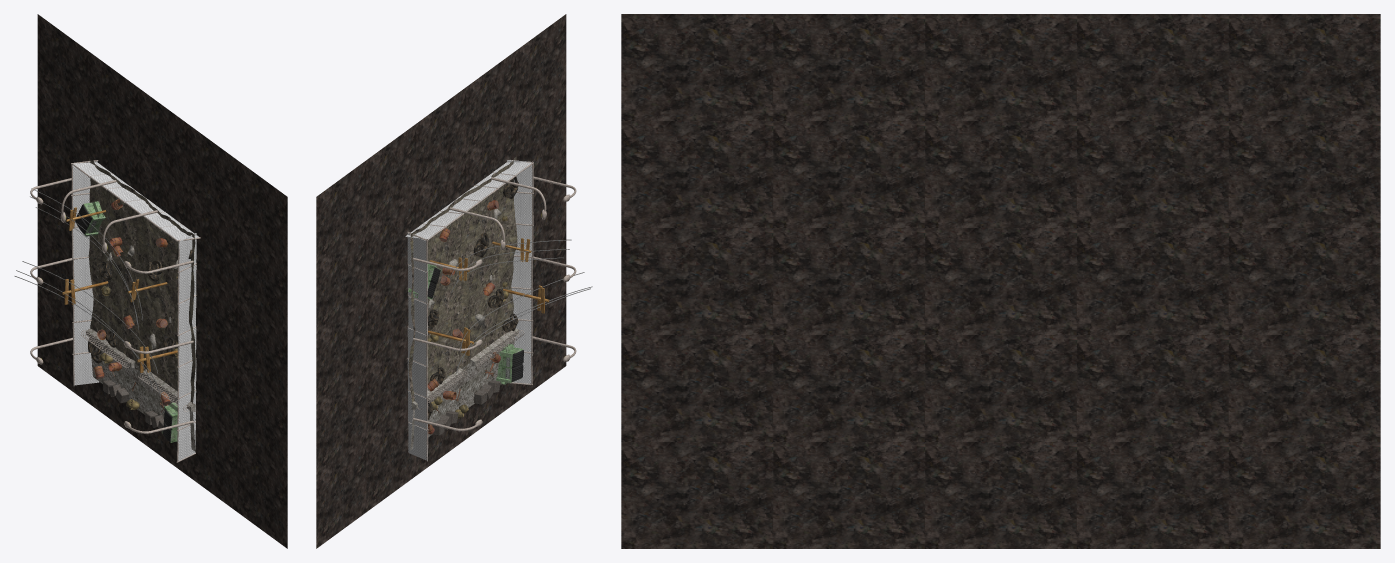
The model's file is niveau_de_jeu.FBX.
The picture shows the model from 3 angles, left to right: view 1: azimuth 30°, elevation 25°; view 2: azimuth 150°, elevation 25°; view 3: azimuth 270°, elevation 25°; orthographic projection. The views are drawn at different scales.
Visible parts, largest first — view 1: background, Enviro; view 2: background, Enviro; view 3: background.
Boxes of the visible parts, box(x1,y1,x2,y2) form: background: box(37, 14, 287, 548); Enviro: box(14, 157, 200, 462); background: box(316, 14, 566, 548); Enviro: box(405, 156, 592, 461); background: box(621, 14, 1380, 548).
Bounding box in the file's own units: 229 × 918 × 1180.
